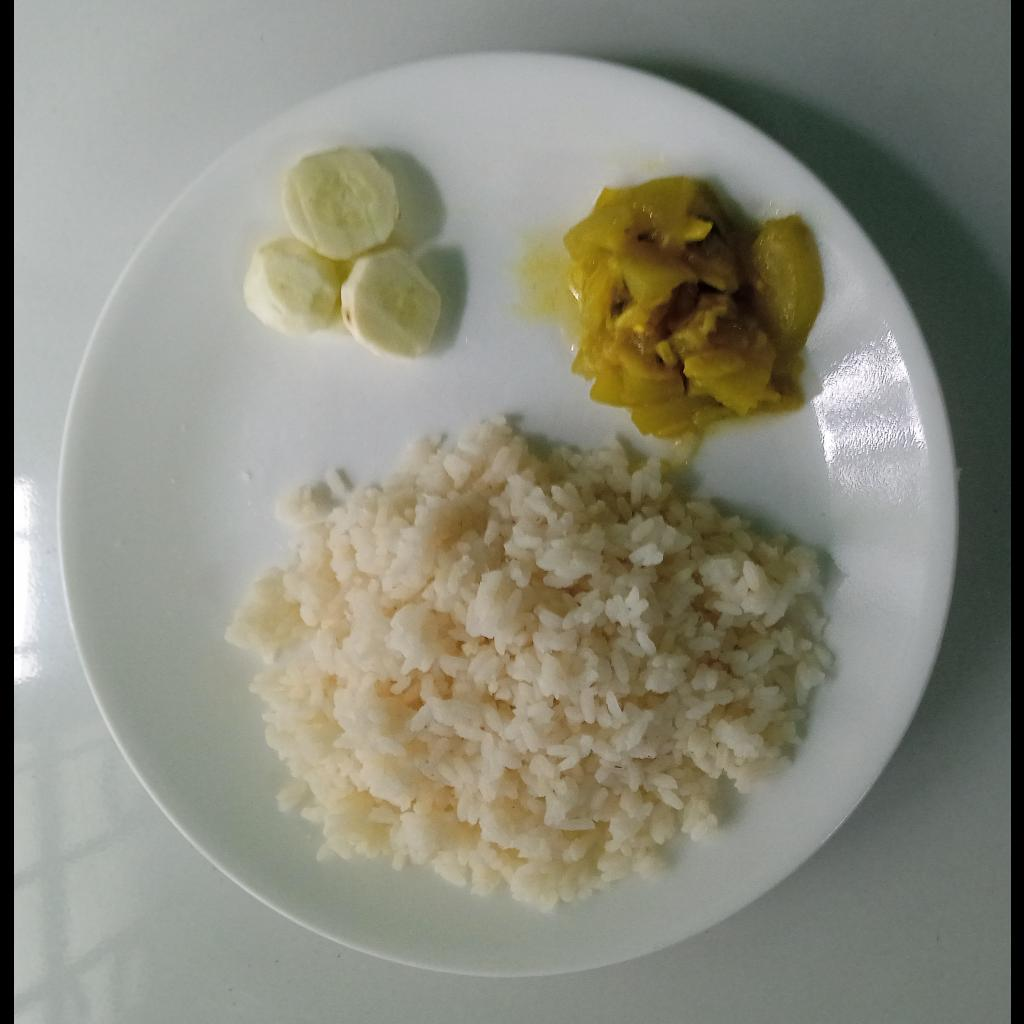cucumber: (239, 146, 443, 362)
lau: (558, 176, 824, 440)
rice: (222, 412, 831, 912)
